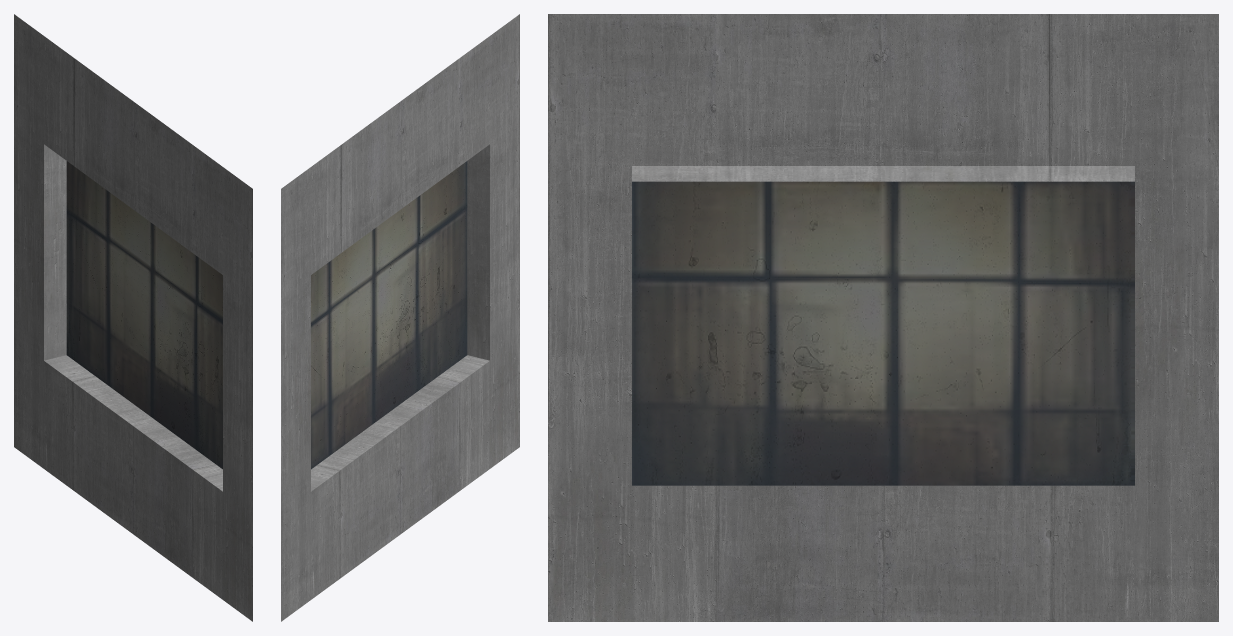
The model's file is HH_Hospital_Windows_4m_02.fbx.
The picture shows the model from 3 angles, left to right: view 1: azimuth 30°, elevation 25°; view 2: azimuth 150°, elevation 25°; view 3: azimuth 270°, elevation 25°; orthographic projection. The views are drawn at different scales.
Visible parts, largest first — view 1: HH_Hospital_Windows_4m_02; view 2: HH_Hospital_Windows_4m_02; view 3: HH_Hospital_Windows_4m_02.
Part boxes in pixels (bbox=[...]): HH_Hospital_Windows_4m_02: bbox=[14, 14, 252, 621]; HH_Hospital_Windows_4m_02: bbox=[281, 14, 519, 621]; HH_Hospital_Windows_4m_02: bbox=[548, 14, 1218, 621].
Bounding box in the file's own units: 21.99 × 400 × 400.
